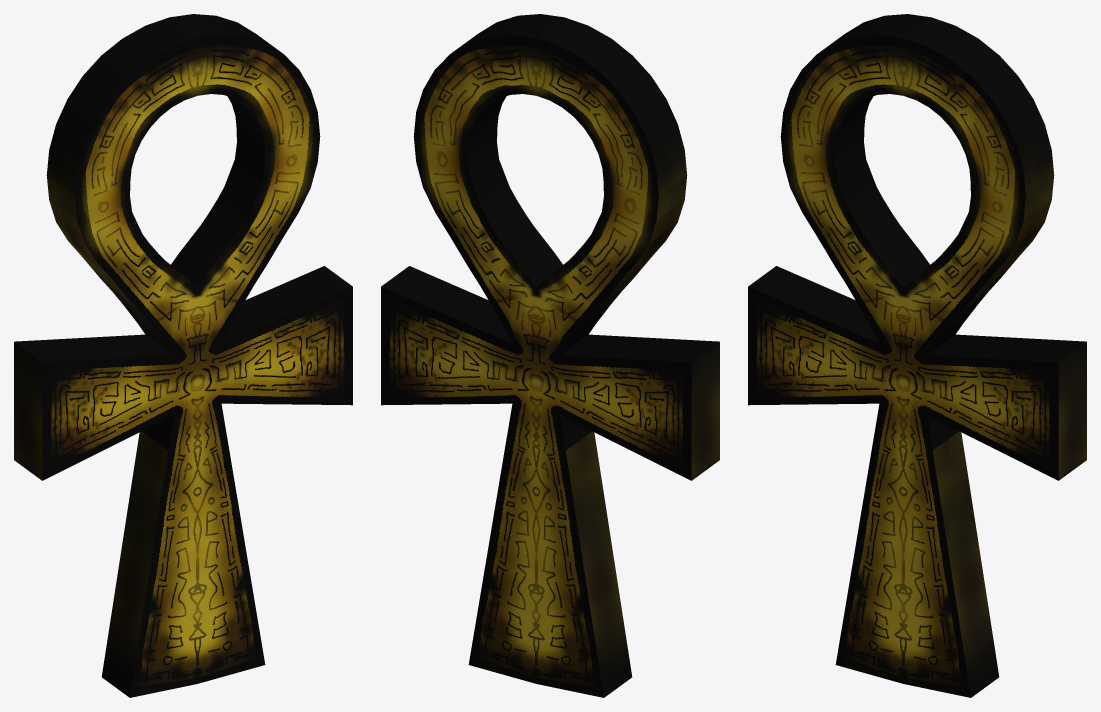
The model's file is M_INT_Ankh.fbx.
The picture shows the model from 3 angles, left to right: view 1: azimuth 30°, elevation 25°; view 2: azimuth 150°, elevation 25°; view 3: azimuth 330°, elevation 25°; orthographic projection.
Parts seen in each view (by area): view 1: Ankh; view 2: Ankh; view 3: Ankh.
Part boxes in pixels (x1=…): Ankh: x1=14, y1=14, x2=352, y2=697; Ankh: x1=381, y1=14, x2=719, y2=697; Ankh: x1=748, y1=14, x2=1086, y2=697.
Bounding box in the file's own units: 18.84 × 37.45 × 2.98.
Materials: 1 (1 with a texture image).
